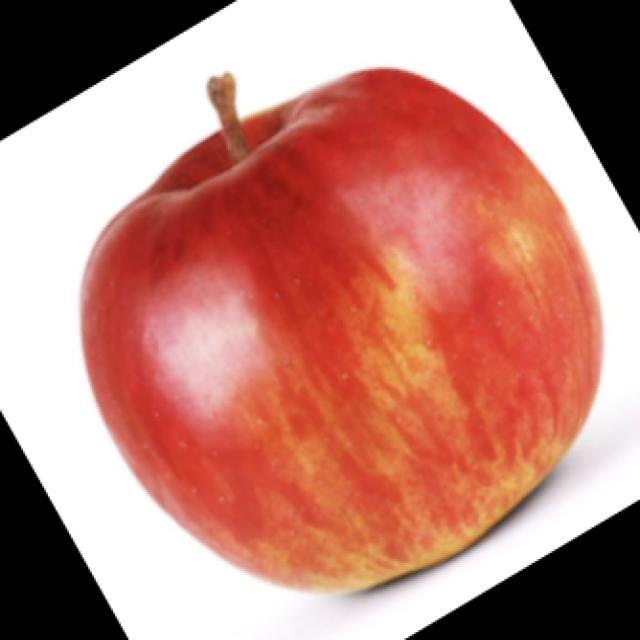Fresh Apple: (77, 59, 608, 600)
